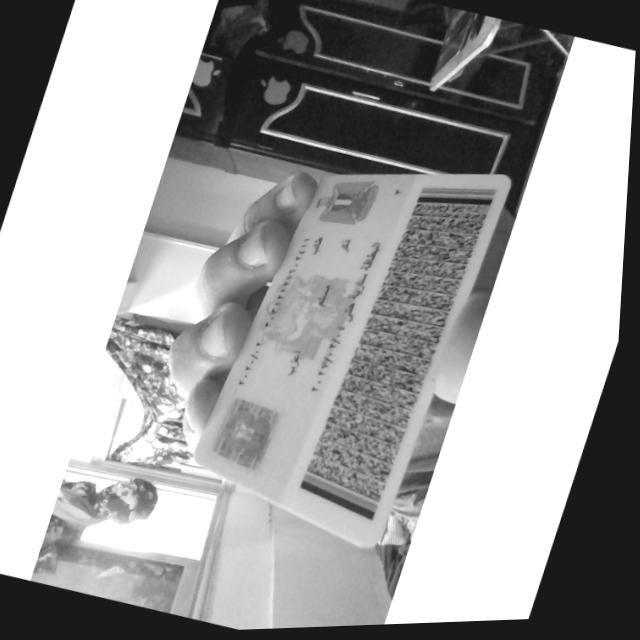id_card: (192, 174, 508, 547)
